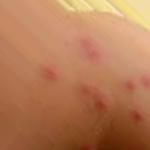Ants: (77, 32, 103, 63), (43, 64, 59, 79), (94, 97, 110, 111), (131, 109, 142, 122), (80, 84, 93, 94), (124, 80, 135, 91), (140, 77, 149, 89)
